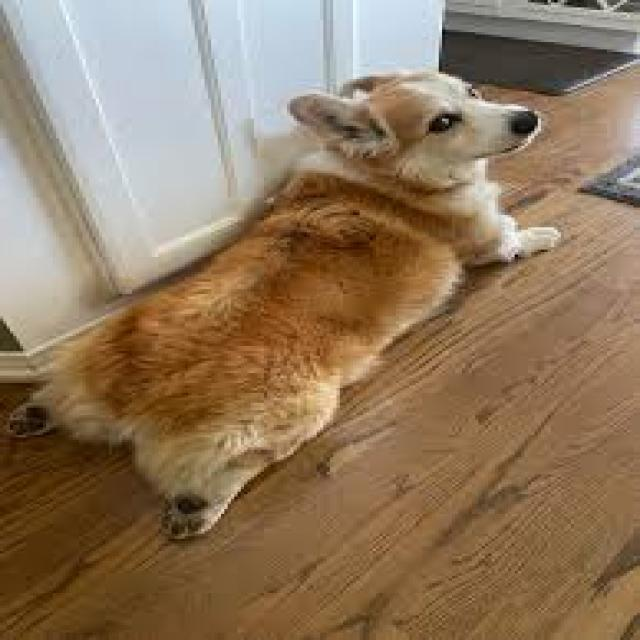CORGI: (1, 44, 586, 549)
